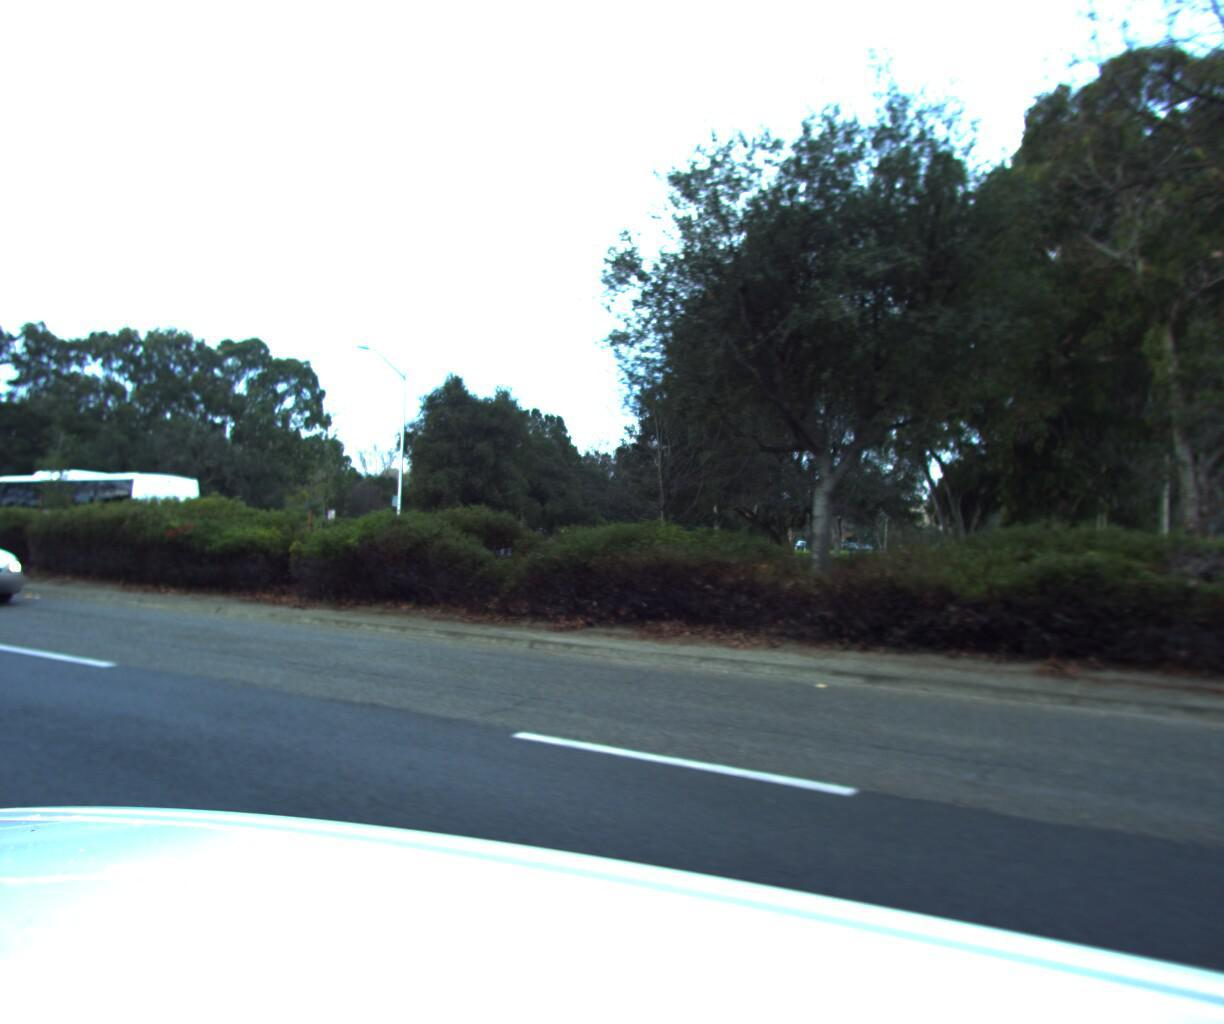car: (0, 494, 51, 619)
truck: (0, 466, 215, 574)
